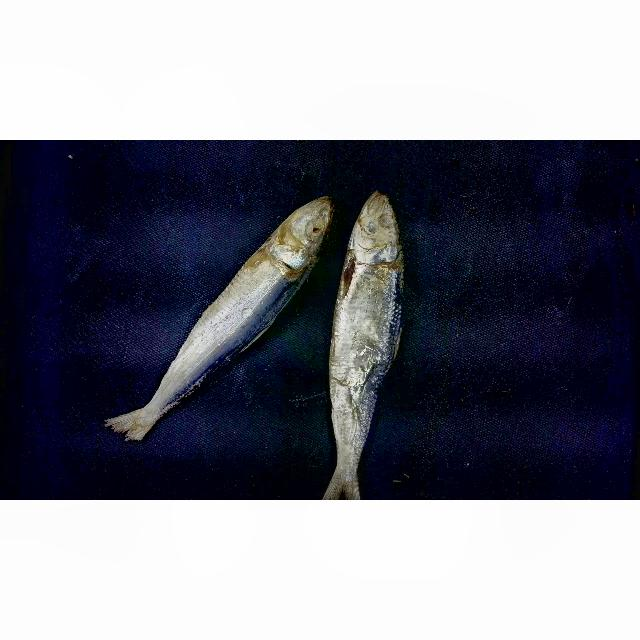Grade_A_Body: (173, 255, 304, 392), (314, 270, 407, 420)
Grade_A_Head: (252, 192, 341, 268), (345, 195, 426, 268)
Grade_A_Tail: (90, 366, 227, 464), (286, 409, 395, 500)
